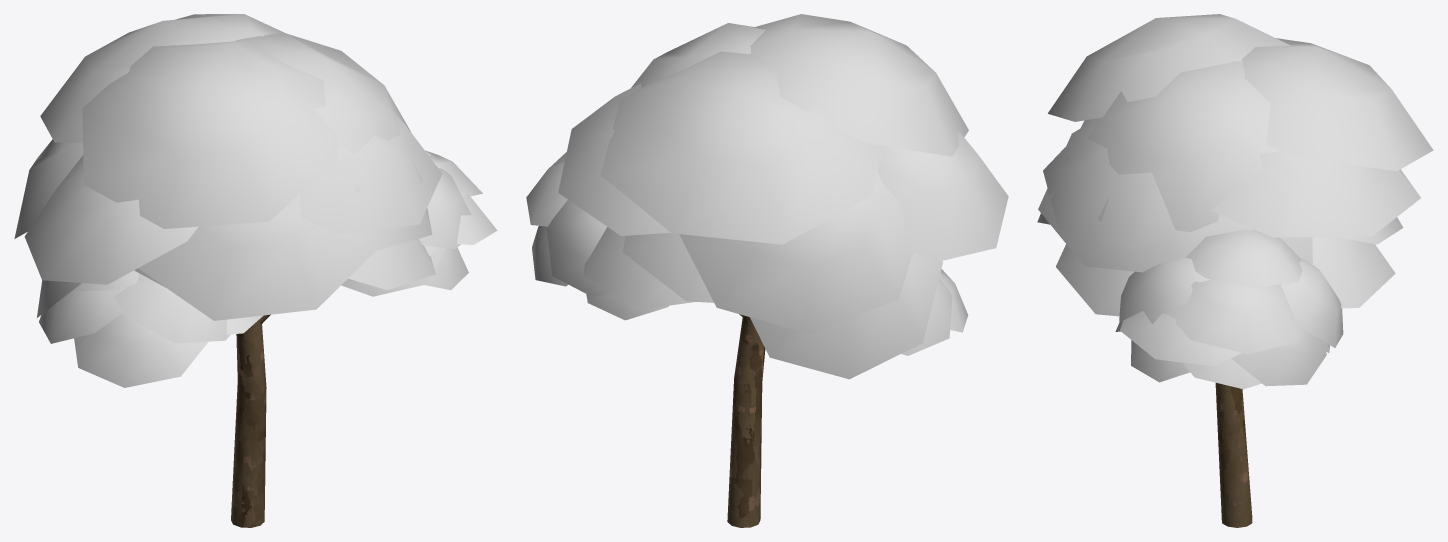
File: tree_3.glb
3 views of the same model, side by side, from view 1: azimuth 30°, elevation 25°; view 2: azimuth 150°, elevation 25°; view 3: azimuth 270°, elevation 25° (orthographic). The views are drawn at different scales.
Parts seen in each view (by area): view 1: Tree_3; view 2: Tree_3; view 3: Tree_3.
Part boxes in pixels (left/top/right/bottom): Tree_3: left=14, top=14, right=497, bottom=527; Tree_3: left=526, top=14, right=1008, bottom=527; Tree_3: left=1037, top=14, right=1433, bottom=527.
Size of the model in its own units: 2.77 by 2.93 by 2.24.
Materials: 2 (1 with a texture image).
